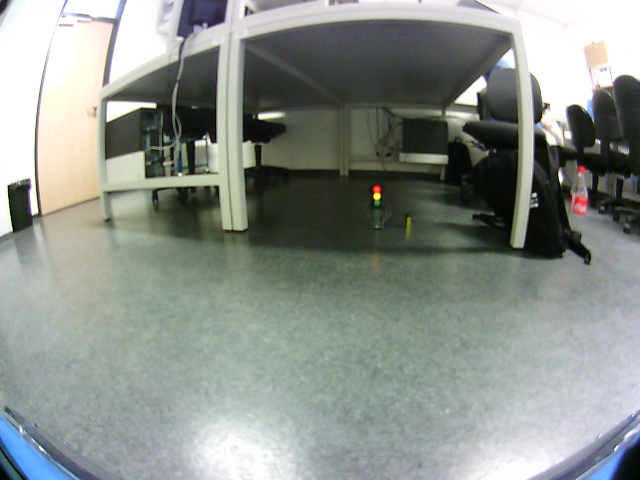red yellow trafficlight: (371, 185, 383, 208)
